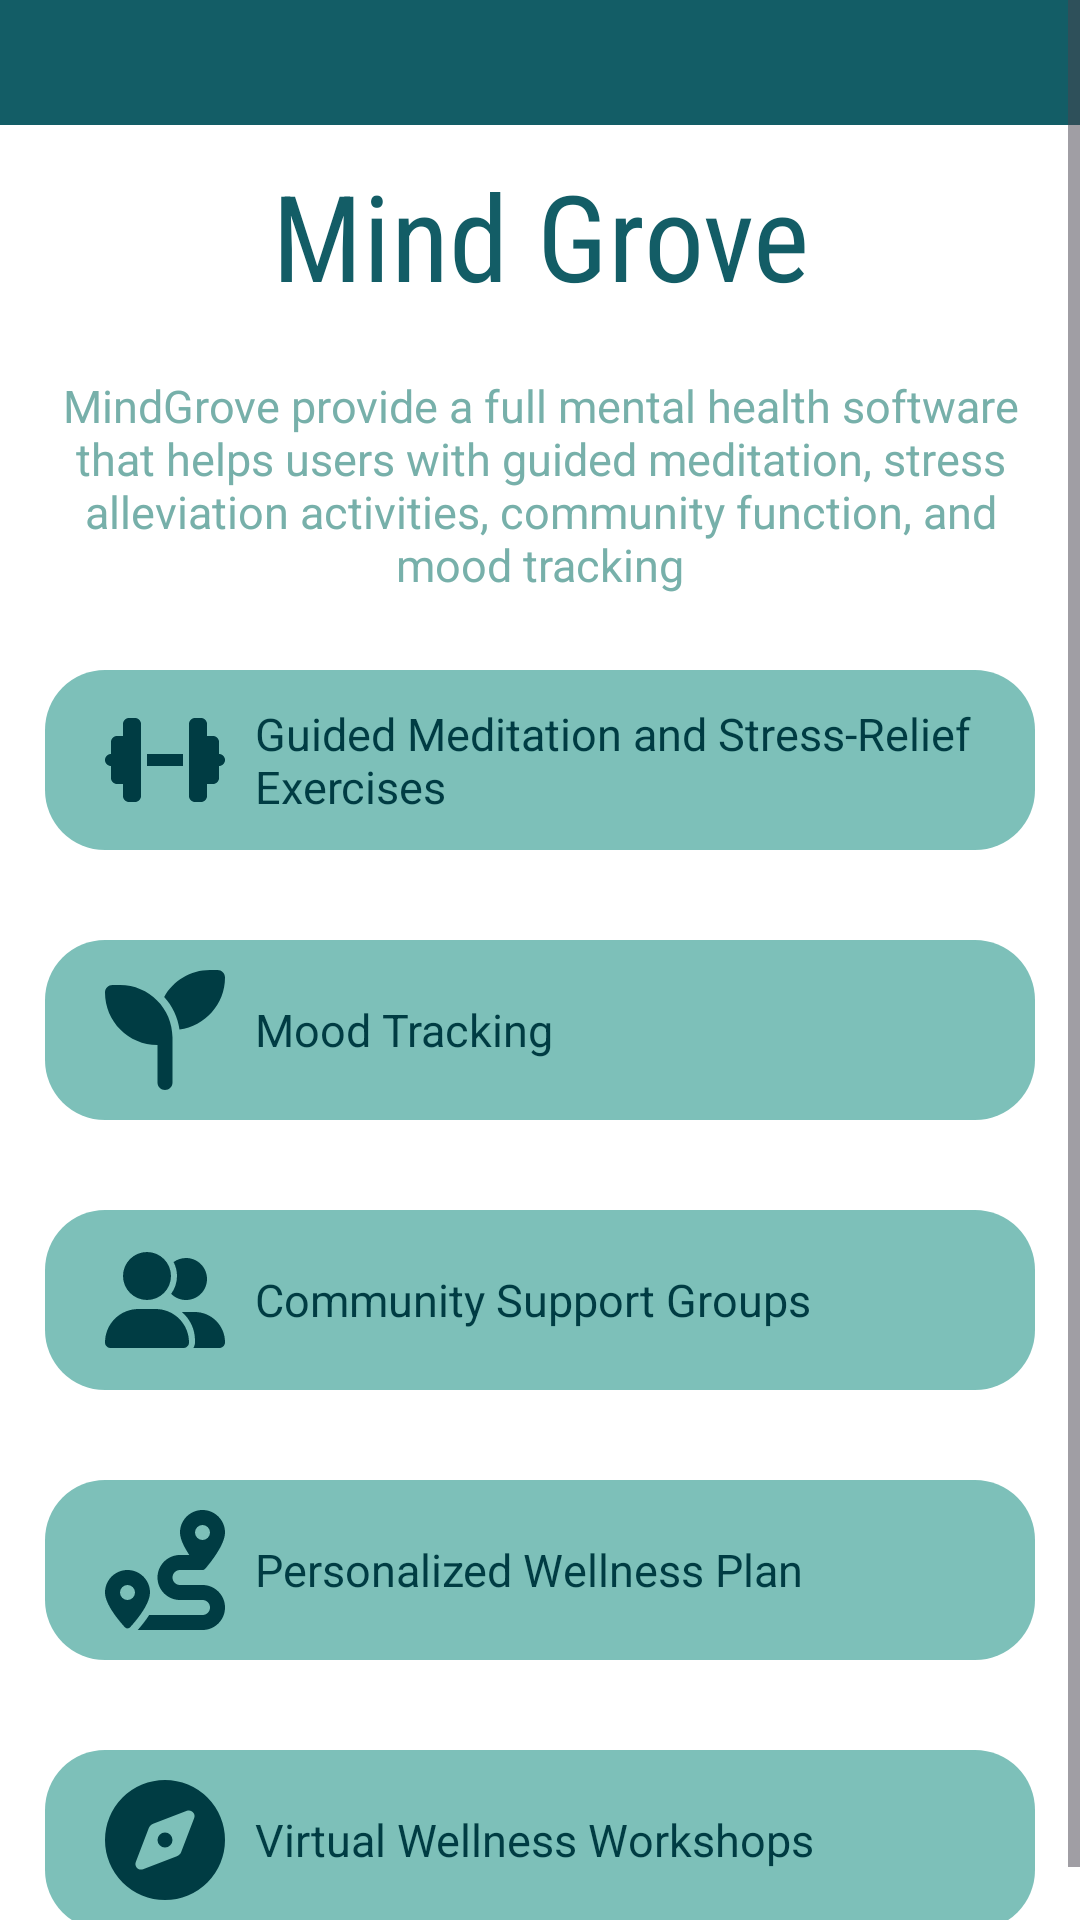

Screen size 1080 x 1920. Icon name, then its box in pixels as (x1, y1, x2, y2):
compass: (105, 1780, 225, 1900)
dumbbell: (105, 718, 225, 802)
route: (105, 1510, 225, 1630)
seedling: (105, 970, 225, 1090)
user group: (105, 1252, 225, 1348)
